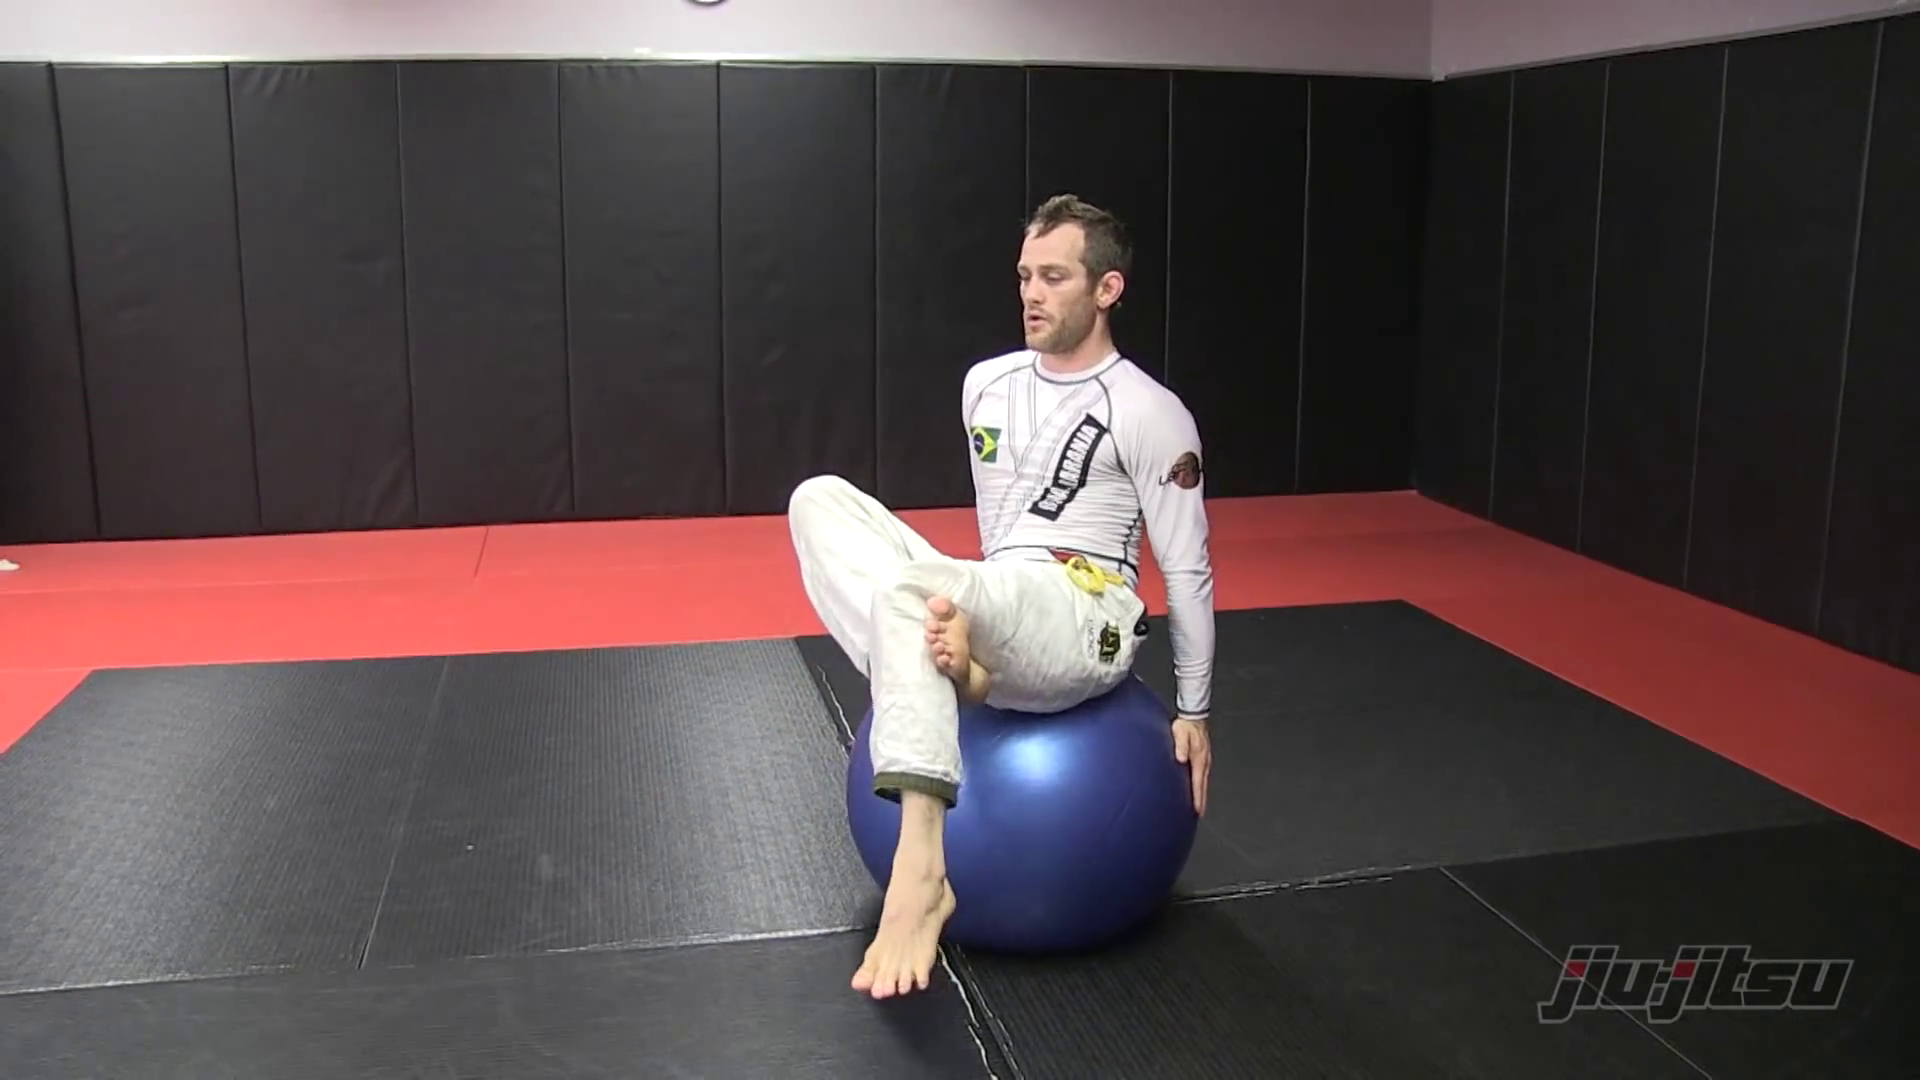yogaball: (829, 649, 1215, 963)
